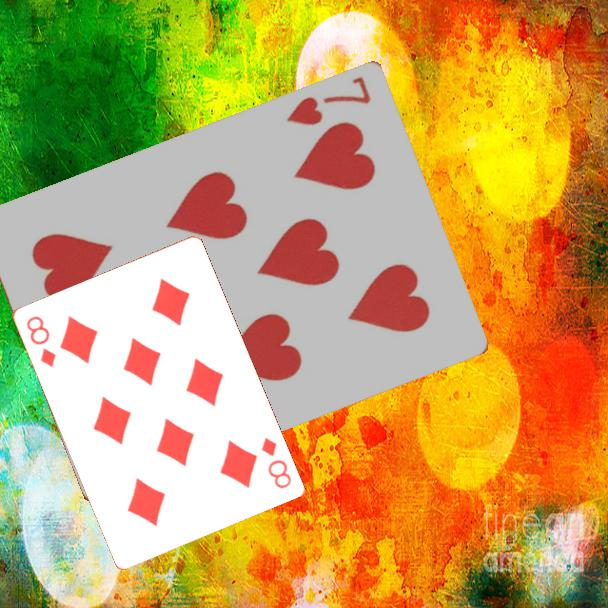d08: (257, 433, 294, 492), (22, 312, 58, 370)
h07: (283, 72, 374, 128)
